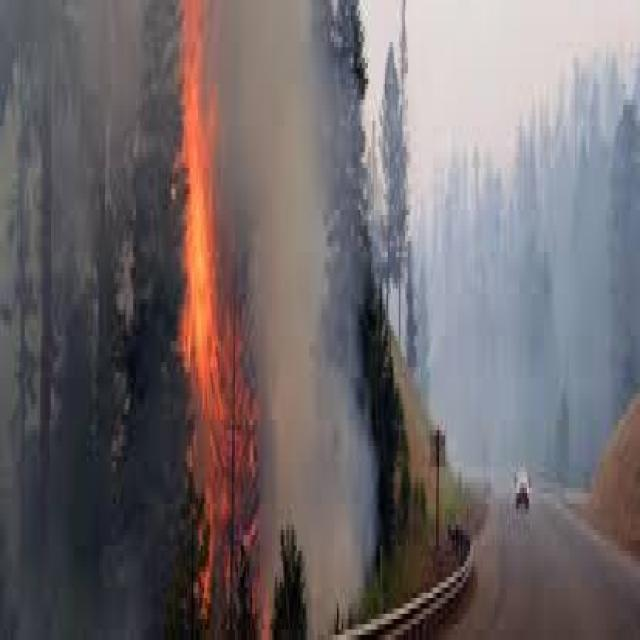Fire: (180, 6, 237, 626)
Smoke: (247, 8, 369, 630)
